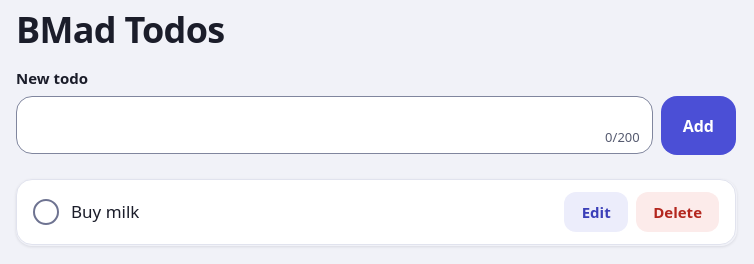
TodoCard › K2 a click completes a todo at once, before the server answers, and sends the body
Click the checkbox labelled "Buy milk" at x=46, y=212, box [33,199,59,225]
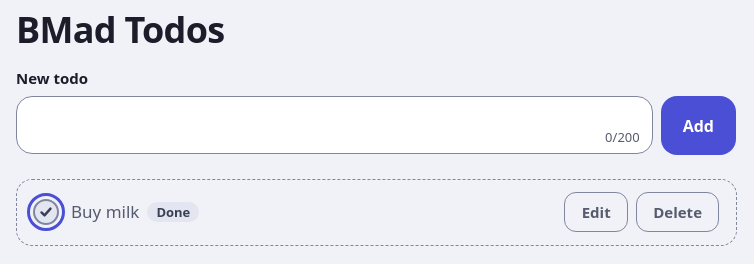
Expected: the checkbox labelled "Buy milk" is checked, [33,199,59,225]
Expected: the text "Done" is shown, [147,202,199,222]
